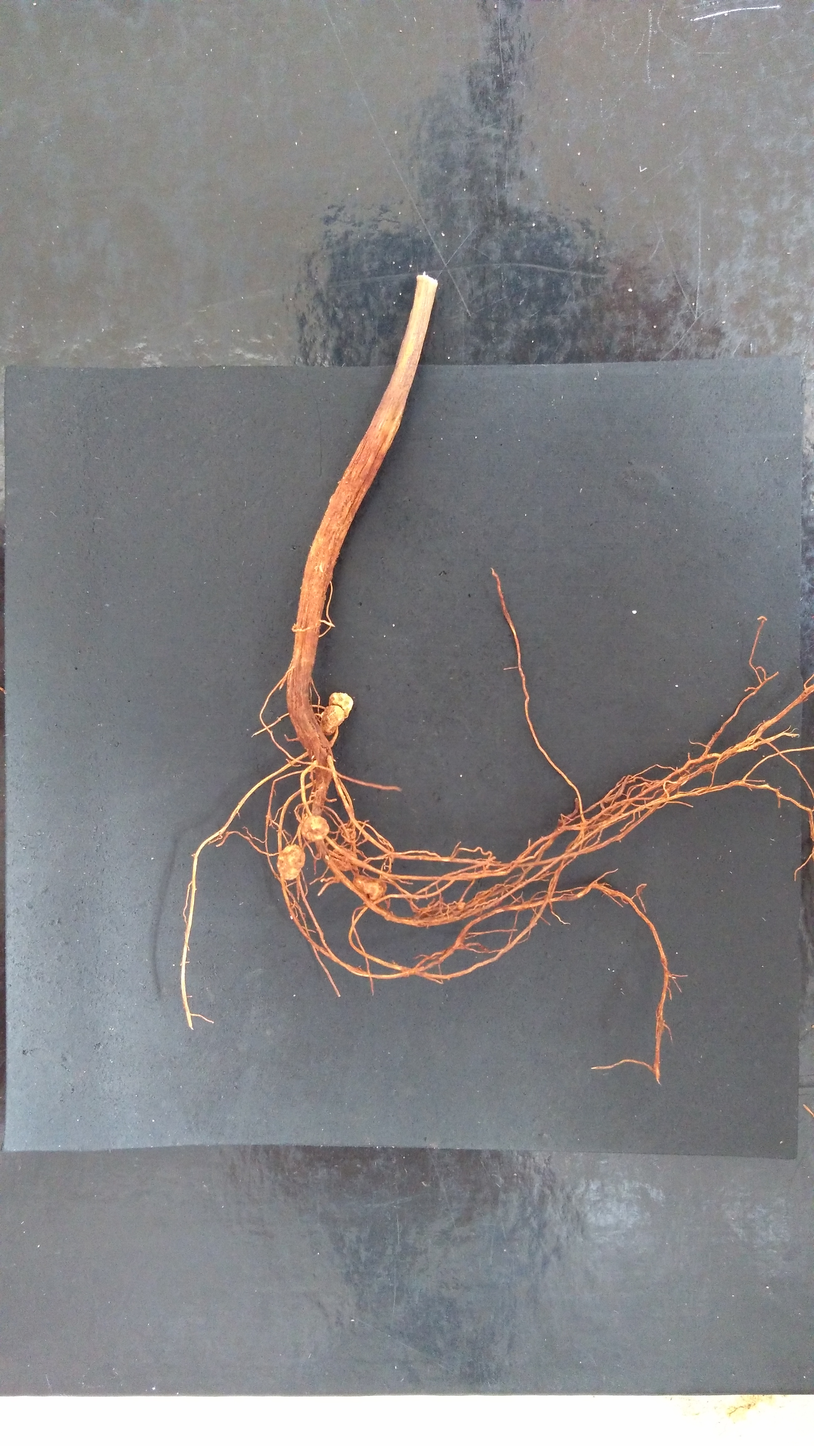nodule: (273, 843, 309, 883), (350, 873, 389, 903), (317, 704, 345, 738), (325, 691, 355, 720), (300, 815, 331, 843), (329, 846, 359, 872), (457, 901, 466, 910)
